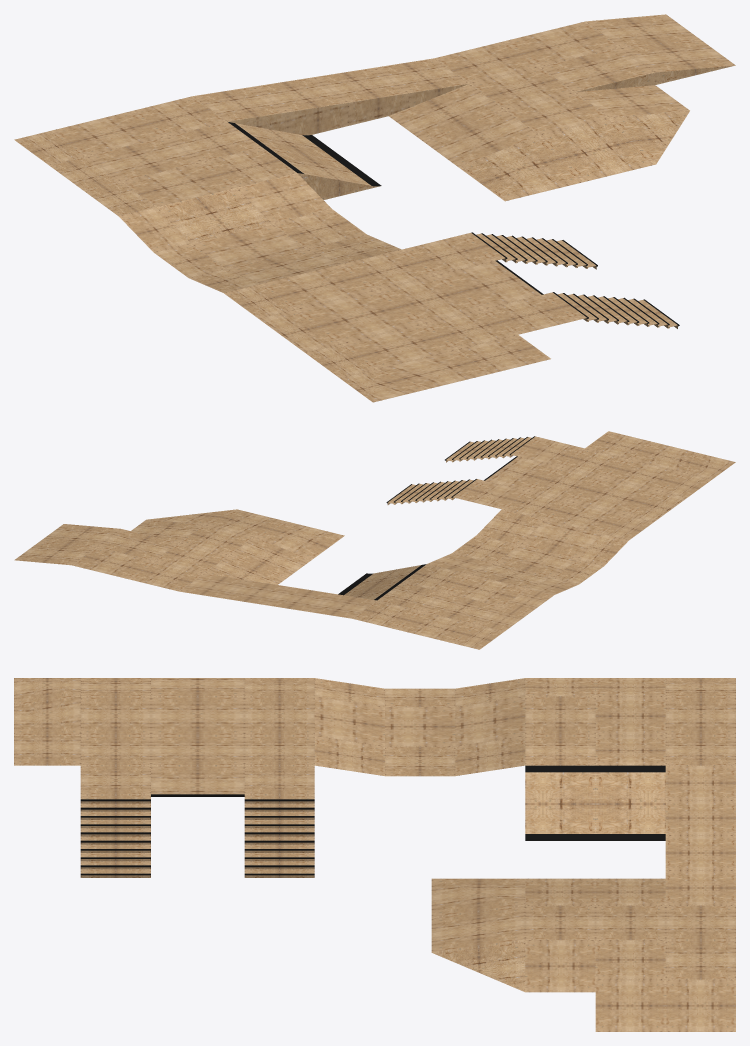
Rendered from transitionA.fbx.
3 views of the same model, one above another, from view 1: azimuth 30°, elevation 25°; view 2: azimuth 150°, elevation 25°; view 3: azimuth 270°, elevation 25° (orthographic). The views are drawn at different scales.
Visible parts, largest first — view 1: transitionA, transitionAflat; view 2: transitionA, transitionAflat; view 3: transitionA, transitionAflat.
Part boxes in pixels (bbox=[...]): transitionA: bbox=[14, 14, 735, 402]; transitionAflat: bbox=[119, 173, 401, 292]; transitionA: bbox=[14, 431, 735, 649]; transitionAflat: bbox=[427, 509, 628, 594]; transitionA: bbox=[14, 678, 735, 1031]; transitionAflat: bbox=[314, 678, 525, 776].
Bounding box in the file's own units: 3236 × 160 × 3085.
